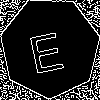E: (24, 22, 66, 74)
